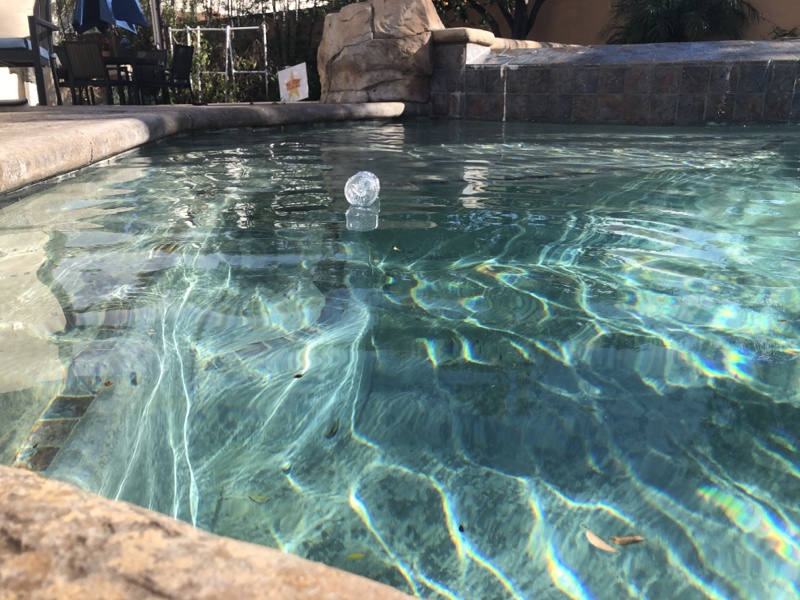Plastic Bottle: (343, 167, 383, 209)
